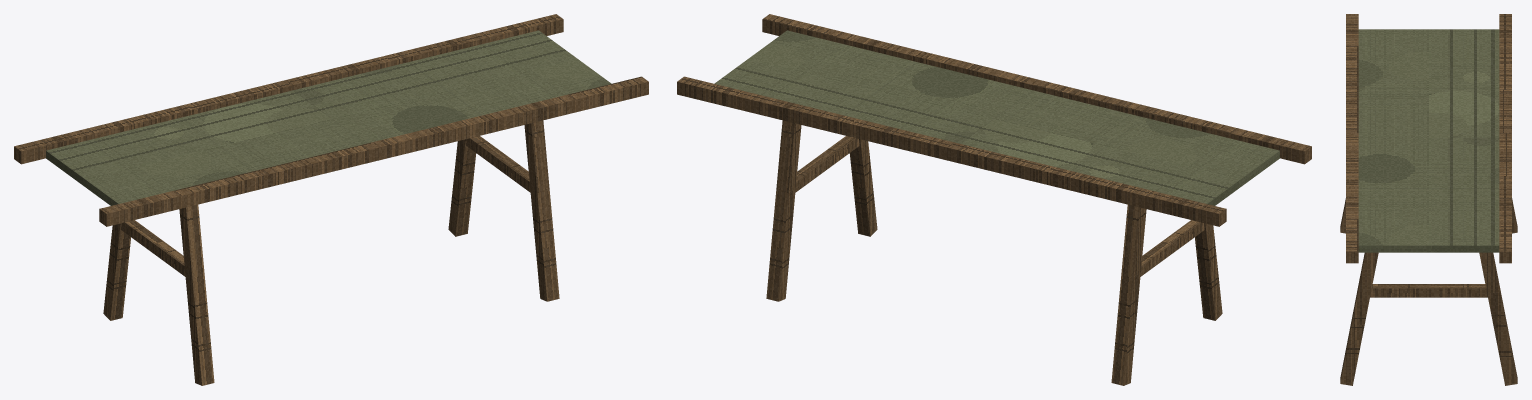
The model's file is fb_litter.glb.
3 renders of one model, left to right at view 1: azimuth 30°, elevation 25°; view 2: azimuth 150°, elevation 25°; view 3: azimuth 270°, elevation 25°, orthographic. The views are drawn at different scales.
Parts seen in each view (by area): view 1: fb_litter; view 2: fb_litter; view 3: fb_litter.
Boxes of the visible parts, x1=… form: fb_litter: x1=14, y1=14, x2=648, y2=385; fb_litter: x1=677, y1=14, x2=1311, y2=385; fb_litter: x1=1340, y1=14, x2=1517, y2=385.
Size of what is drawn, in the model's own units: 2.2 by 0.7539 by 0.6943.
2 materials, 2 textured.
